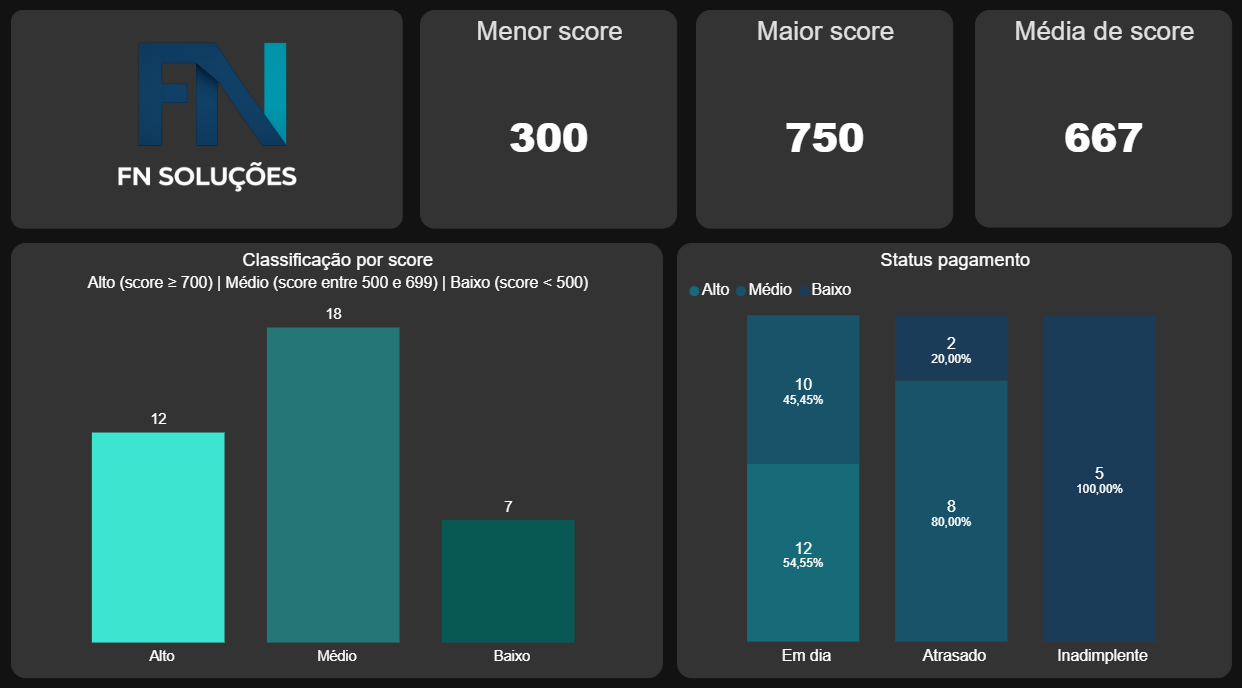

The dashboard page shown, as its layout file describes it:
{"tool":"powerbi","page":{"name":"Score","canvas":[1280,720],"ordinal":1},"visuals":[{"type":"hundredPercentStackedColumnChart","title":"Status pagamento","fields":{"Category":["tabela_score_atual.traducao_status_pagamento"],"Y":["Count(tabela_score_atual.fk_id_cliente)"],"Series":["tabela_score_atual.classificacao_final"]},"box":[695,253,561,440],"z":0},{"type":"card","title":"Maior score","fields":{"Values":["Max(dados_analise_credito_tratados.score_credito)"]},"box":[714,17,260,221],"z":1000},{"type":"card","title":"Média de score","fields":{"Values":["Avg(dados_analise_credito_tratados.score_credito)"]},"box":[996,17,260,220],"z":2000},{"type":"card","title":"Menor score","fields":{"Values":["Min(dados_analise_credito_tratados.score_credito)"]},"box":[435,17,260,221],"z":3000},{"type":"clusteredColumnChart","title":"Classificação por score","fields":{"Y":["Count(tabela_score_atual.fk_id_cliente)"],"Category":["tabela_score_atual.classificacao_final"]},"box":[21,253,659,440],"z":4000},{"type":"image","box":[21,17,396,221],"z":5000}]}

Visuals, with their boxes in screenshot pixels (x1, y1, x2, y2), scaled from the page's 1280x720 canvas onto the 1242x688 screenshot:
"Status pagamento" hundredPercentStackedColumnChart: l=674, t=242, r=1219, b=662
"Maior score" card: l=693, t=16, r=945, b=227
"Média de score" card: l=966, t=16, r=1219, b=226
"Menor score" card: l=422, t=16, r=674, b=227
"Classificação por score" clusteredColumnChart: l=20, t=242, r=660, b=662
image: l=20, t=16, r=405, b=227
